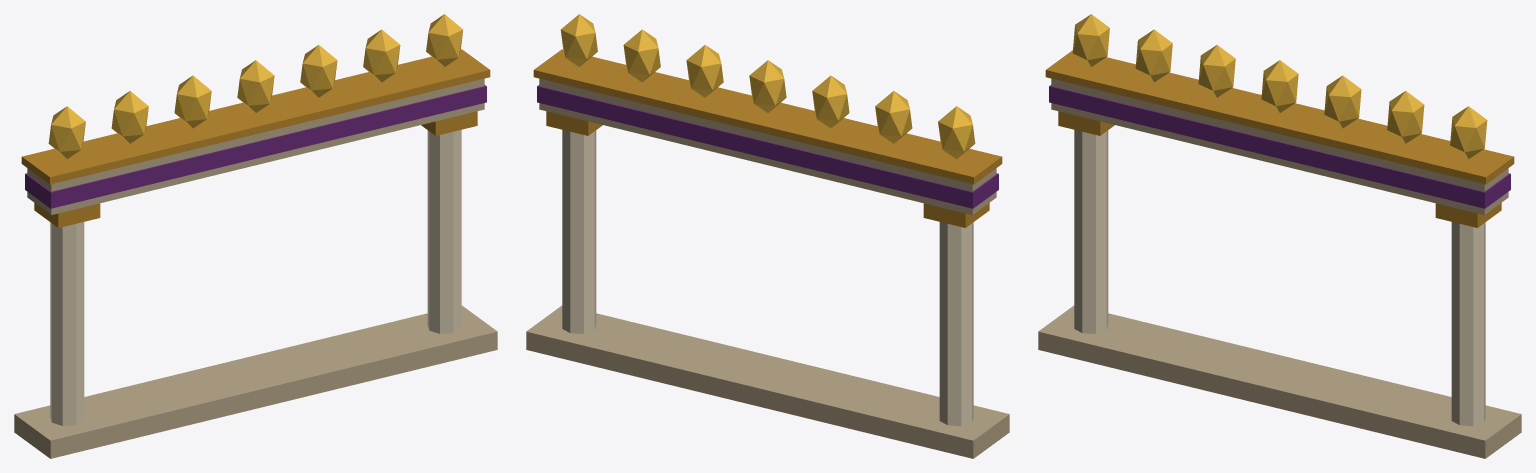
The model's file is PR_LapCounter.fbx.
3 views of the same model, side by side, from view 1: azimuth 30°, elevation 25°; view 2: azimuth 150°, elevation 25°; view 3: azimuth 330°, elevation 25° (orthographic).
Parts seen in each view (by area): view 1: PR_LapCounter_Frame, Egg3, Egg2, Egg1, Egg6, Egg5, Egg0, Egg4; view 2: PR_LapCounter_Frame, Egg3, Egg2, Egg1, Egg6, Egg5, Egg0, Egg4; view 3: PR_LapCounter_Frame, Egg3, Egg4, Egg1, Egg2, Egg5, Egg0, Egg6.
Boxes of the visible parts, x1,y1,x2,y2 form: PR_LapCounter_Frame: [14, 49, 497, 458]; Egg3: [237, 60, 274, 112]; Egg2: [174, 75, 211, 128]; Egg1: [111, 91, 148, 143]; Egg6: [426, 14, 463, 66]; Egg5: [363, 29, 400, 82]; Egg0: [48, 106, 85, 158]; Egg4: [300, 45, 337, 97]; PR_LapCounter_Frame: [526, 49, 1009, 458]; Egg3: [749, 60, 786, 112]; Egg2: [812, 75, 849, 128]; Egg1: [875, 91, 912, 143]; Egg6: [560, 14, 597, 66]; Egg5: [623, 29, 660, 82]; Egg0: [938, 106, 975, 158]; Egg4: [686, 45, 723, 97]; PR_LapCounter_Frame: [1038, 50, 1521, 458]; Egg3: [1261, 60, 1298, 112]; Egg4: [1324, 75, 1361, 128]; Egg1: [1135, 29, 1172, 82]; Egg2: [1198, 45, 1235, 97]; Egg5: [1387, 91, 1424, 143]; Egg0: [1072, 14, 1109, 66]; Egg6: [1450, 106, 1487, 159].
Bounding box in the file's own units: 6.4 × 0.9 × 4.53.
